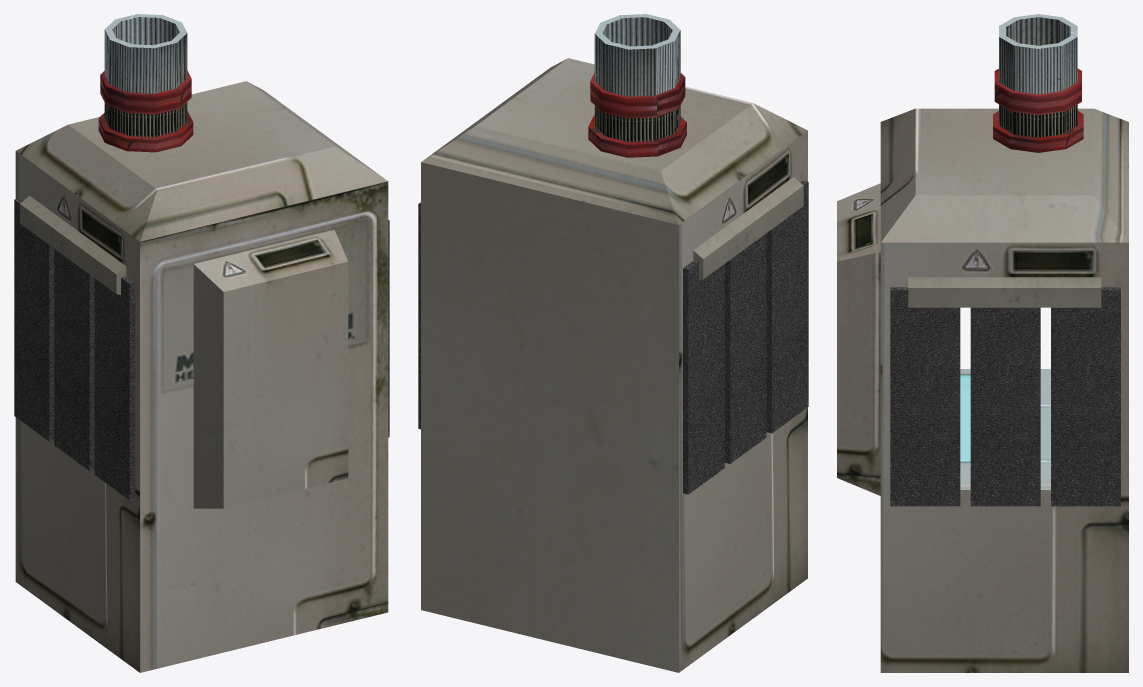
Rendered from fabricator.fbx.
3 renders of one model, left to right at view 1: azimuth 30°, elevation 25°; view 2: azimuth 150°, elevation 25°; view 3: azimuth 270°, elevation 25°, orthographic. The views are drawn at different scales.
Visible parts, largest first — view 1: frabricator4; view 2: frabricator4; view 3: frabricator4.
Part boxes in pixels (x1,y1,x2,y2): frabricator4: (14, 14, 389, 672); frabricator4: (418, 14, 808, 672); frabricator4: (837, 14, 1128, 672).
Bounding box in the file's own units: 4.4 × 8.86 × 4.17.
